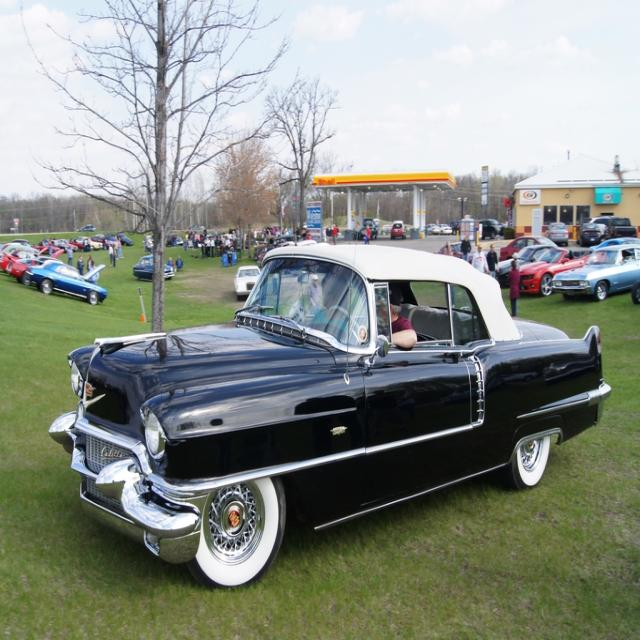car: (60, 262, 602, 574), (390, 220, 403, 236)
